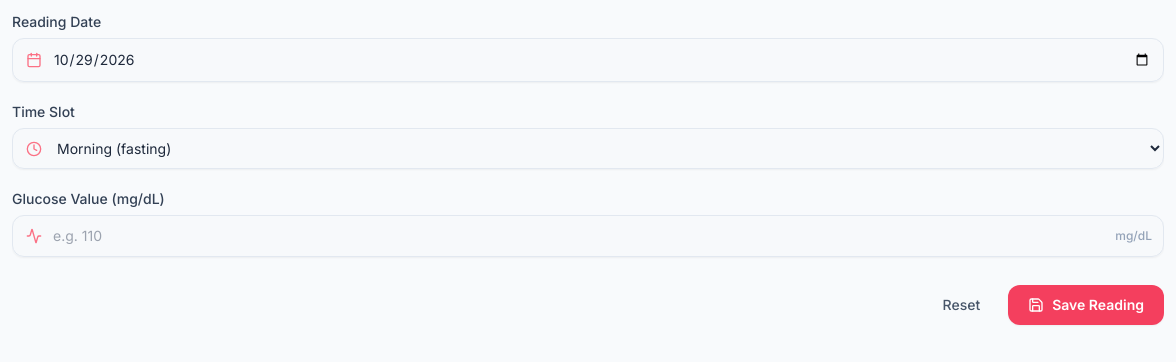
Test: GlucoseReadingForm Component Tests › Displays error when date is in the future
Type "2099-12-31" into the date field labelled "Reading Date" at (588, 60), box [12,38,1164,82]
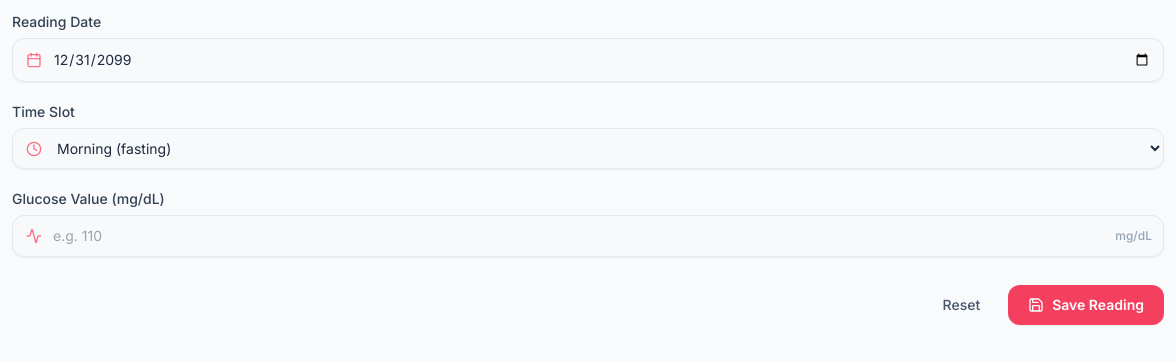
Type "120" into the number field labelled "Glucose Value (mg/dL)" at (588, 236), box [12,215,1164,257]
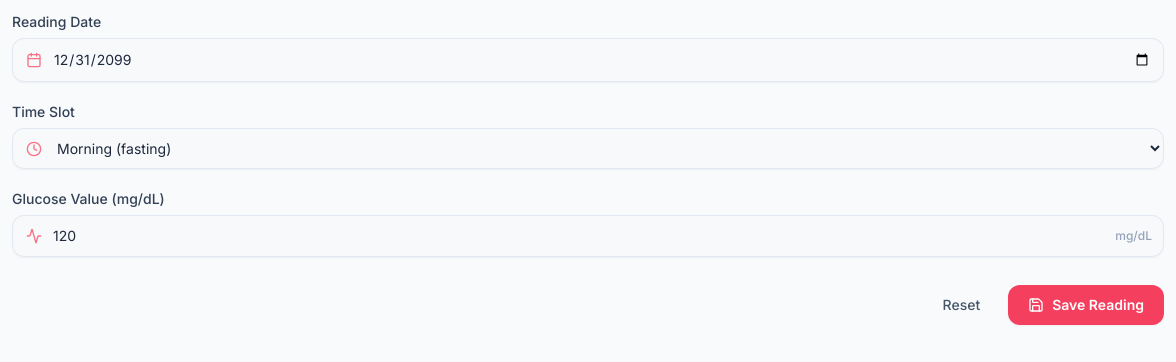
Click the button "Save Reading" at (1086, 305), box [1008,285,1164,325]
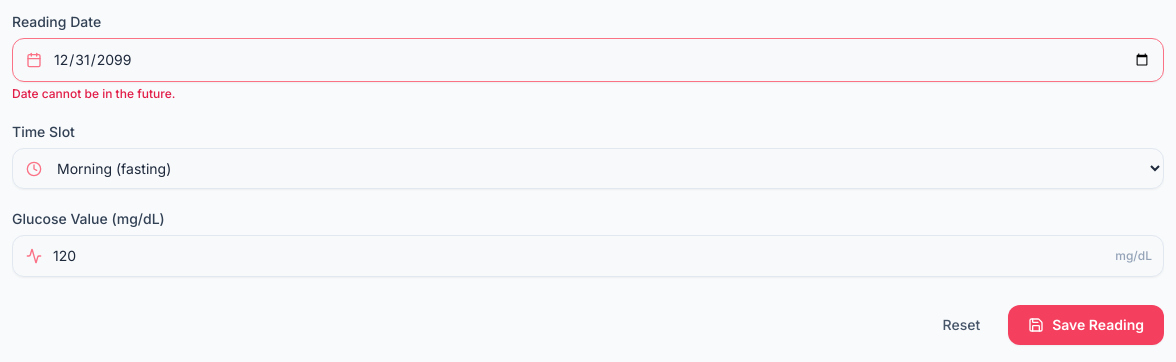
Expected: the text "Date cannot be in the future." is shown, [12,86,175,101]
